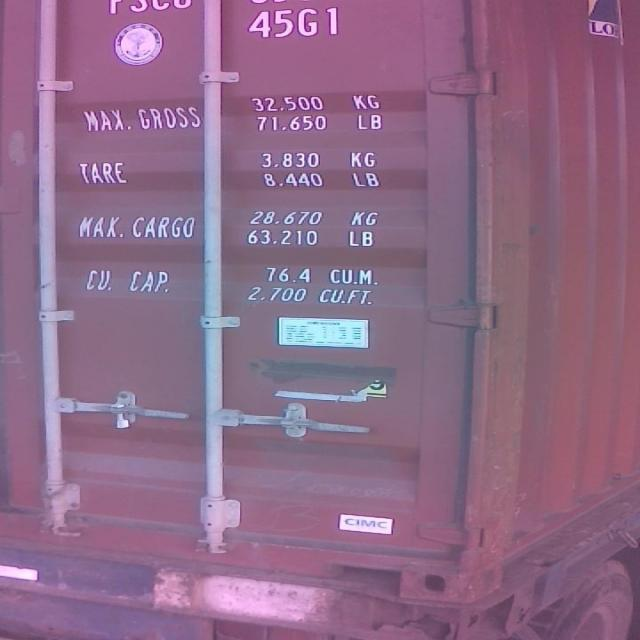seal: (107, 399, 142, 436)
